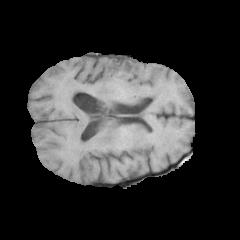glioma: (61, 60, 159, 121)
